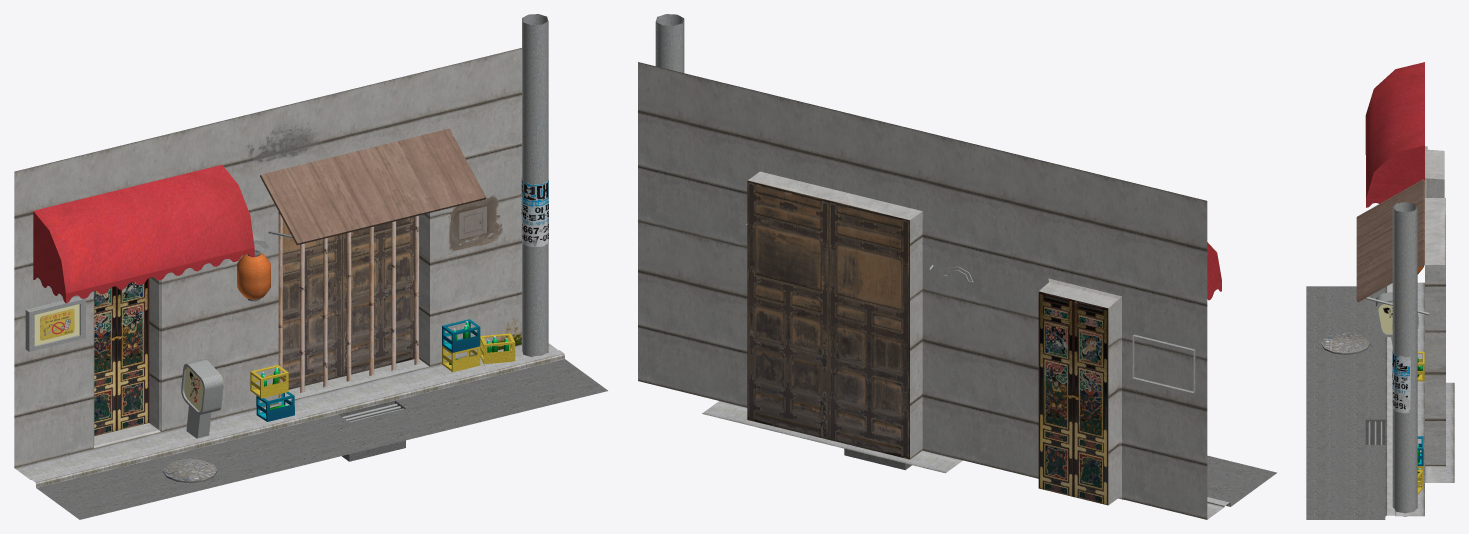
File: kr_random_street.glb
3 views of the same model, side by side, from view 1: azimuth 30°, elevation 25°; view 2: azimuth 150°, elevation 25°; view 3: azimuth 270°, elevation 25° (orthographic). The views are drawn at different scales.
Parts seen in each view (by area): view 1: Object_3, Object_4; view 2: Object_3; view 3: Object_3, Object_4.
Part boxes in pixels (x1,y1,x2,y2): Object_3: [14, 14, 607, 519]; Object_4: [40, 121, 548, 402]; Object_3: [638, 14, 1276, 519]; Object_3: [1306, 62, 1454, 519]; Object_4: [1383, 307, 1410, 413].
Size of the model in its own units: 28.05 by 19 by 7.5.
2 materials, 2 textured.
